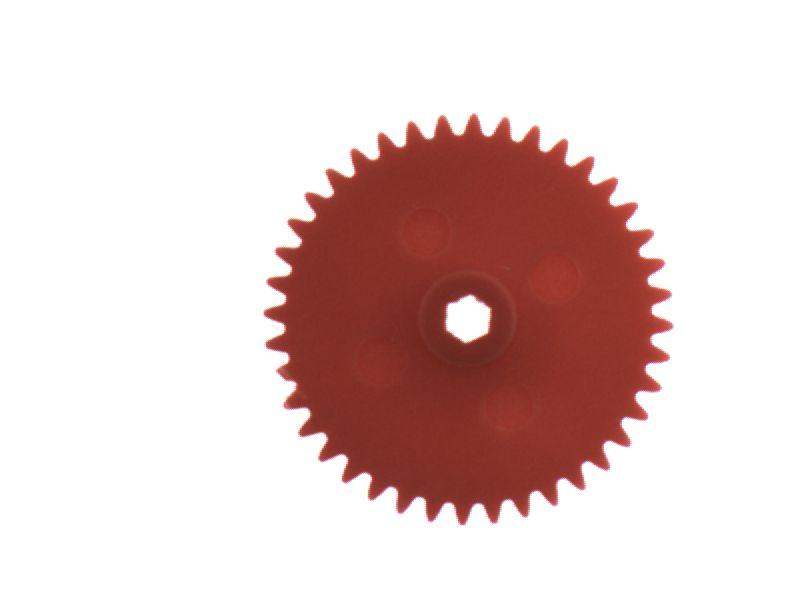defect_break: (255, 356, 303, 394)
